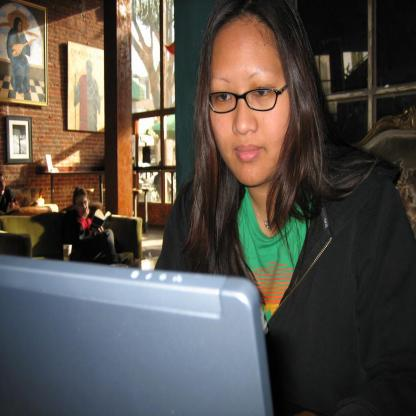board: (0, 252, 272, 414)
